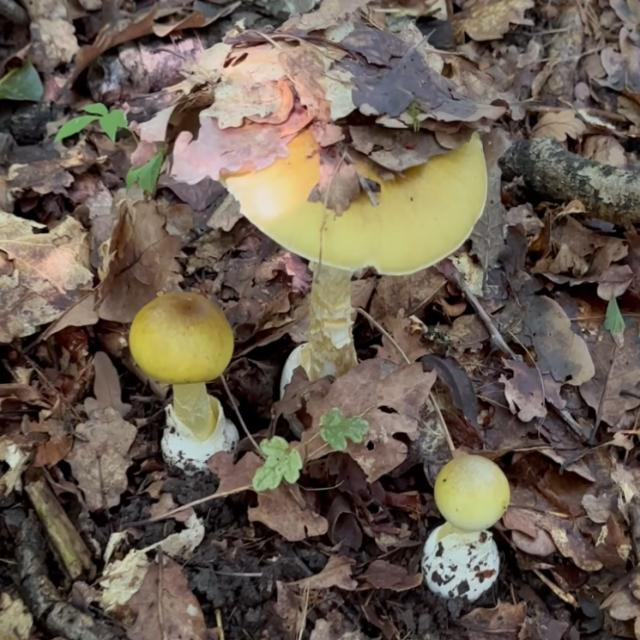death-cap: (221, 133, 487, 382), (127, 292, 239, 479), (422, 451, 512, 608)
